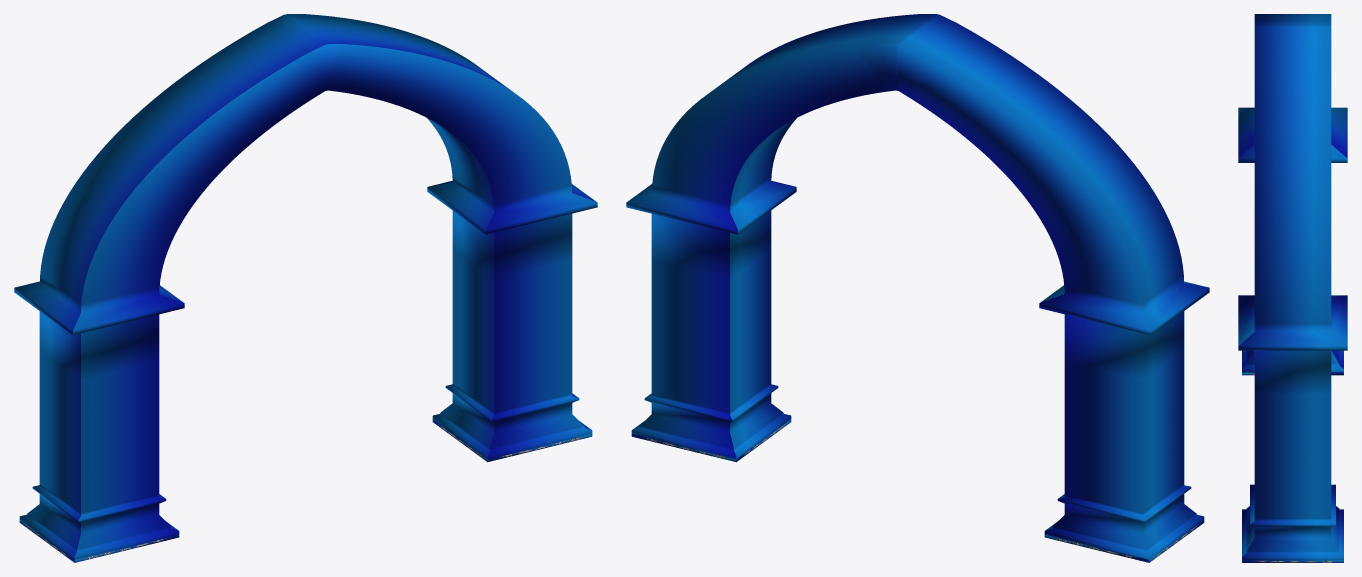
Rendered from Arco.obj.
3 renders of one model, left to right at view 1: azimuth 30°, elevation 25°; view 2: azimuth 150°, elevation 25°; view 3: azimuth 270°, elevation 25°, orthographic. The views are drawn at different scales.
Parts seen in each view (by area): view 1: Cube; view 2: Cube; view 3: Cube.
Part boxes in pixels (box(x1,y1,x2,y2)): Cube: box(14, 14, 597, 562); Cube: box(626, 14, 1209, 562); Cube: box(1238, 14, 1347, 562).
Bounding box in the file's own units: 17.52 × 14.37 × 3.39.
